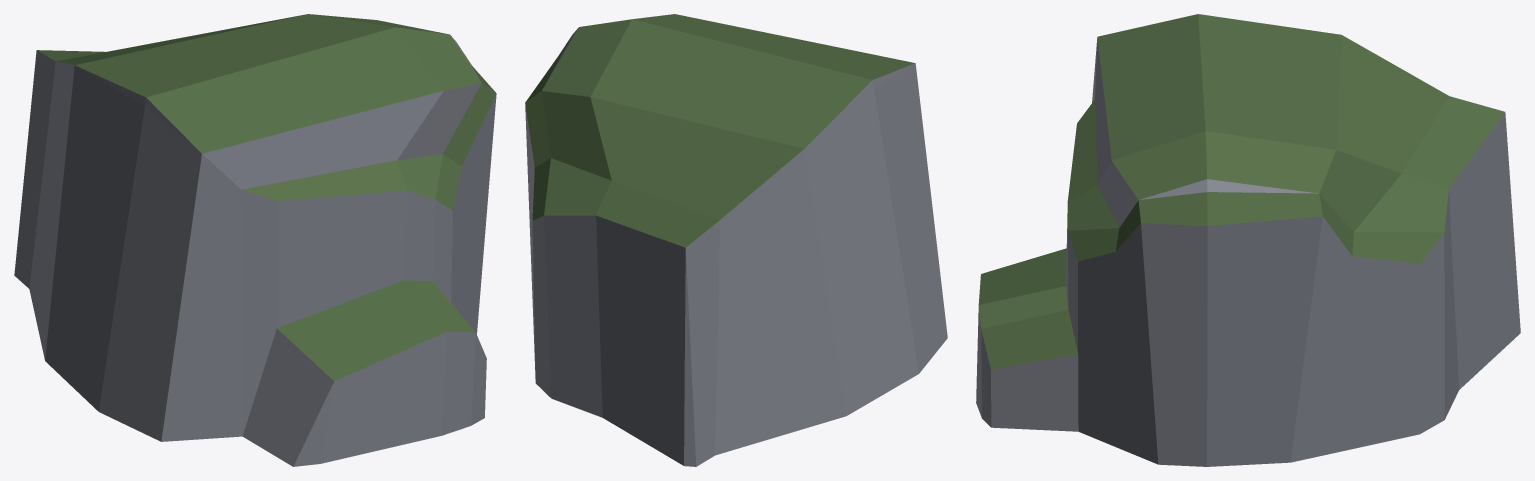
The model's file is Blends_Rock_Moss_6.glb.
3 renders of one model, left to right at view 1: azimuth 30°, elevation 25°; view 2: azimuth 150°, elevation 25°; view 3: azimuth 270°, elevation 25°, orthographic. The views are drawn at different scales.
Parts seen in each view (by area): view 1: Rock_Moss_6; view 2: Rock_Moss_6; view 3: Rock_Moss_6.
Boxes of the visible parts, x1=… form: Rock_Moss_6: x1=14, y1=14, x2=496, y2=466; Rock_Moss_6: x1=525, y1=14, x2=947, y2=466; Rock_Moss_6: x1=976, y1=14, x2=1520, y2=466.
Size of the model in its own units: 0.912 by 0.7078 by 1.14.
